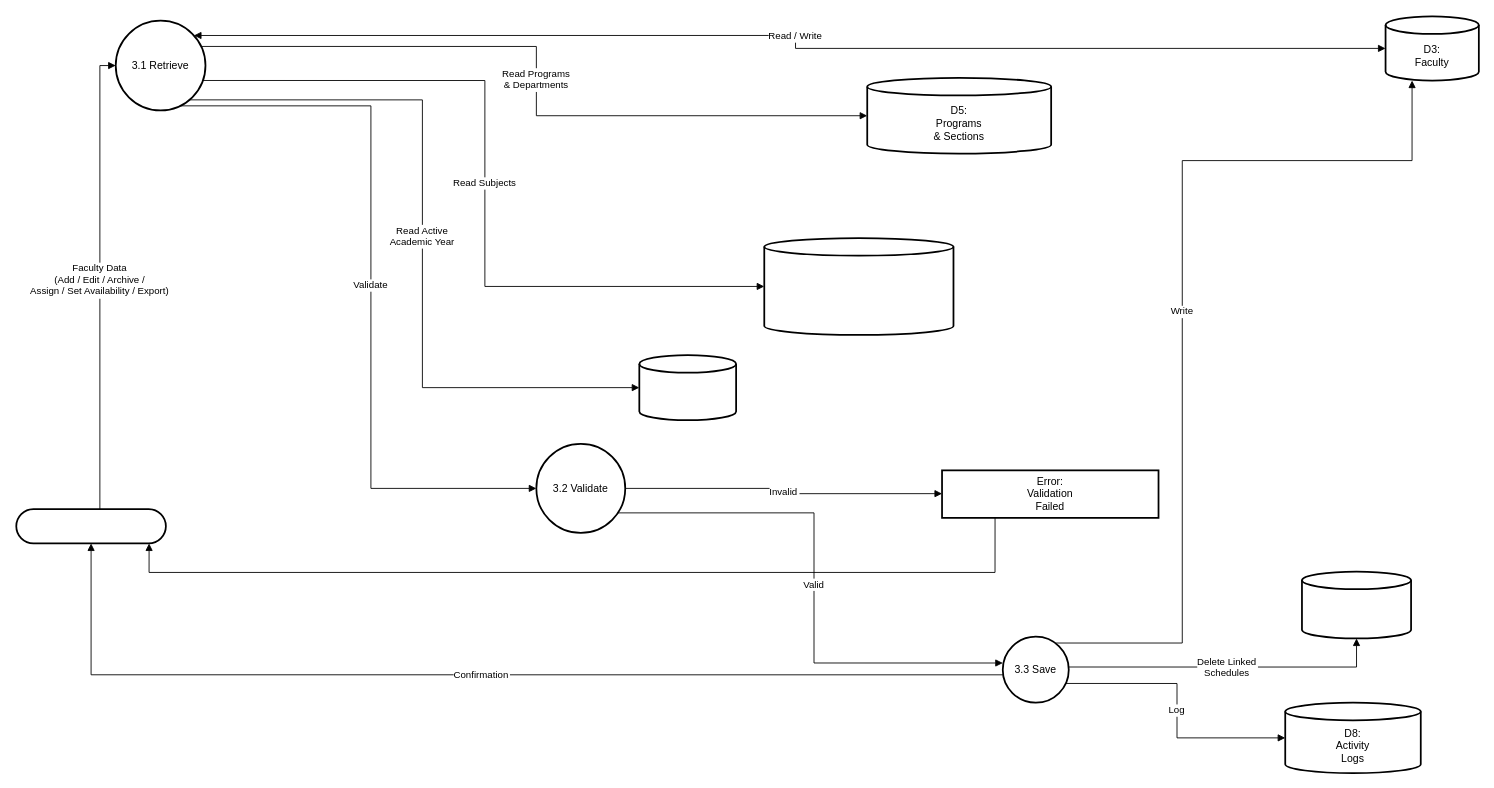
Some shapes in this 1494 by 788 pixel diagram are drawn without their labels. Here are the shapes that lost their labels. From the top down, the centre of each, then its label:
the point at 858,286: D6: Curriculum & Subjects
the point at 687,387: D7: Settings
the point at 90,526: User Admin / Dean
the point at 1356,604: D2: Schedules
